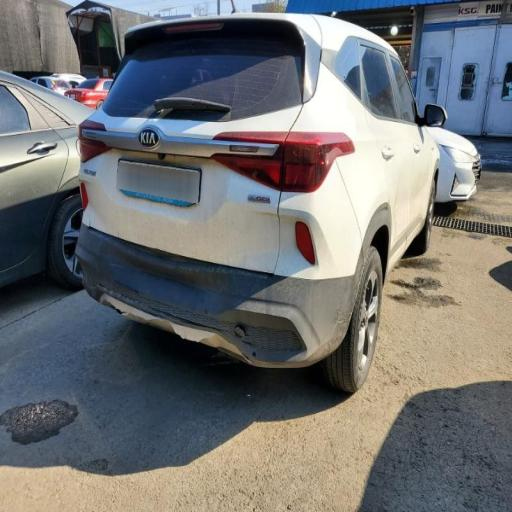broken: (171, 282, 325, 400)
dent: (132, 130, 310, 306)
